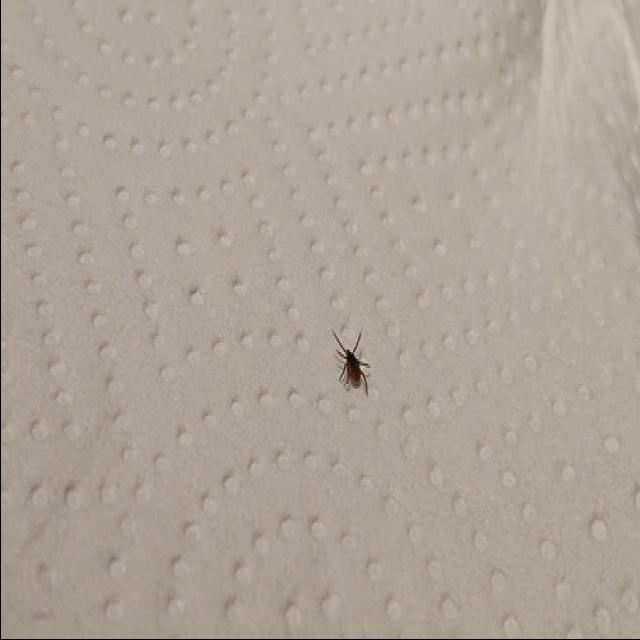Ixodes Ricinus-F: (330, 330, 369, 399)
